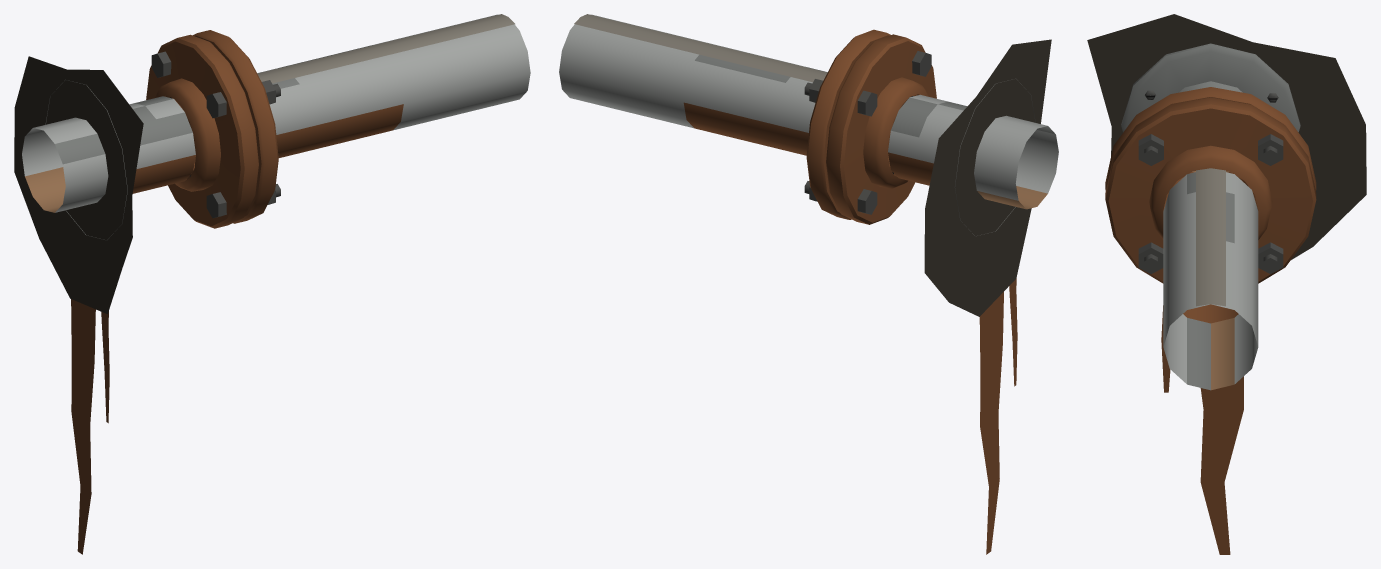
The model's file is pipe_wall.glb.
3 renders of one model, left to right at view 1: azimuth 30°, elevation 25°; view 2: azimuth 150°, elevation 25°; view 3: azimuth 270°, elevation 25°, orthographic. The views are drawn at different scales.
Visible parts, largest first — view 1: pipe_wall3, pipe_wall0, pipe_wall7, pipe_wall8, pipe_wall1, pipe_wall4, pipe_wall2; view 2: pipe_wall3, pipe_wall0, pipe_wall7, pipe_wall8, pipe_wall1, pipe_wall4, pipe_wall2; view 3: pipe_wall3, pipe_wall7, pipe_wall0, pipe_wall1, pipe_wall8, pipe_wall4, pipe_wall2.
Boxes of the visible parts, x1,y1,x2,y2 form: pipe_wall3: [71, 30, 403, 554]; pipe_wall0: [22, 14, 530, 212]; pipe_wall7: [14, 56, 143, 314]; pipe_wall8: [257, 14, 515, 83]; pipe_wall1: [45, 45, 370, 239]; pipe_wall4: [151, 51, 280, 218]; pipe_wall2: [25, 167, 65, 212]; pipe_wall3: [683, 29, 1017, 554]; pipe_wall0: [559, 14, 1058, 200]; pipe_wall7: [924, 39, 1051, 316]; pipe_wall8: [574, 14, 827, 82]; pipe_wall1: [695, 54, 1055, 236]; pipe_wall4: [804, 51, 931, 214]; pipe_wall2: [977, 186, 1047, 209]; pipe_wall3: [1105, 87, 1316, 554]; pipe_wall7: [1087, 14, 1366, 259]; pipe_wall0: [1163, 172, 1258, 383]; pipe_wall1: [1121, 43, 1300, 390]; pipe_wall8: [1196, 168, 1225, 306]; pipe_wall4: [1138, 90, 1283, 273]; pipe_wall2: [1192, 171, 1234, 390].
Bounding box in the file's own units: 0.55 × 0.5658 × 0.2651.
